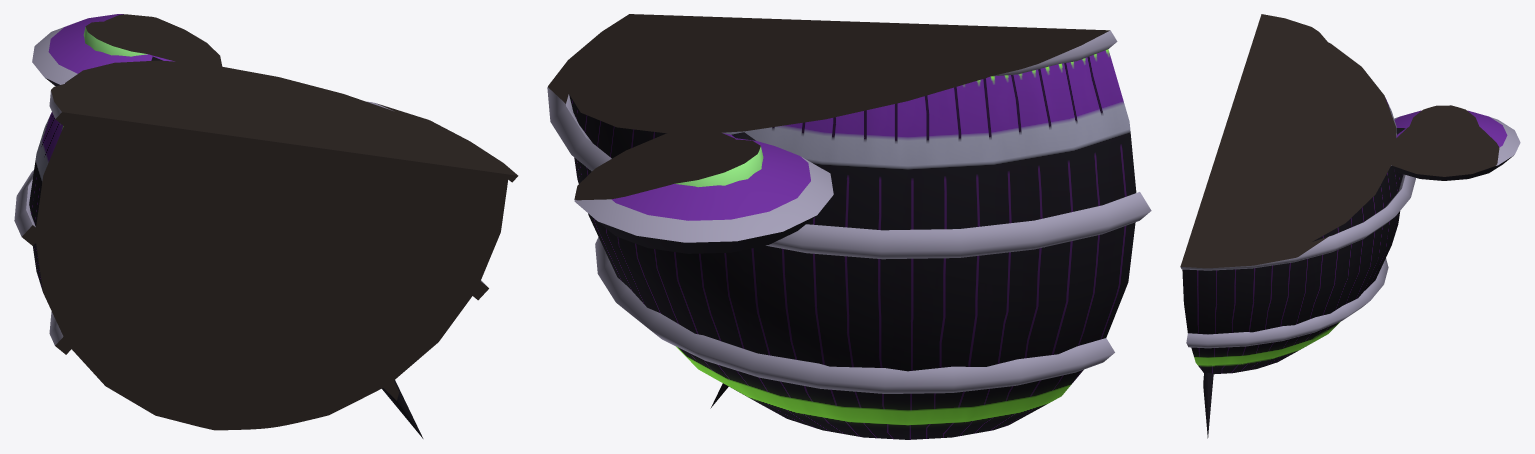
The model's file is cargo_orb_debris1.obj.
3 renders of one model, left to right at view 1: azimuth 30°, elevation 25°; view 2: azimuth 150°, elevation 25°; view 3: azimuth 270°, elevation 25°, orthographic. The views are drawn at different scales.
Parts seen in each view (by area): view 1: orb, cab, band, cab_dome, spike; view 2: orb, band, cab, cab_dome; view 3: orb, band, cab, cab_dome, spike.
Boxes of the visible parts, x1,y1,x2,y2 form: orb: [29, 60, 508, 430]; cab: [32, 14, 222, 86]; band: [14, 82, 518, 354]; cab_dome: [83, 21, 148, 56]; spike: [373, 372, 423, 438]; orb: [567, 14, 1136, 439]; band: [547, 14, 1151, 393]; cab: [574, 130, 833, 253]; cab_dome: [674, 139, 763, 187]; orb: [1182, 20, 1403, 374]; band: [1180, 14, 1415, 348]; cab: [1391, 110, 1520, 180]; cab_dome: [1409, 105, 1479, 127]; spike: [1203, 373, 1213, 438].
Size of the model in its own units: 30.54 by 25.23 by 25.9.
6 materials, 1 textured.
